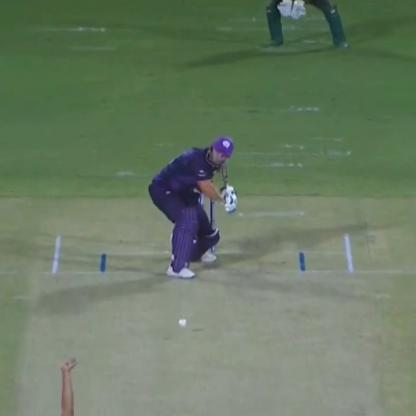ball: (173, 312, 188, 332)
bat: (206, 133, 250, 219)
pitch: (20, 226, 386, 416)
